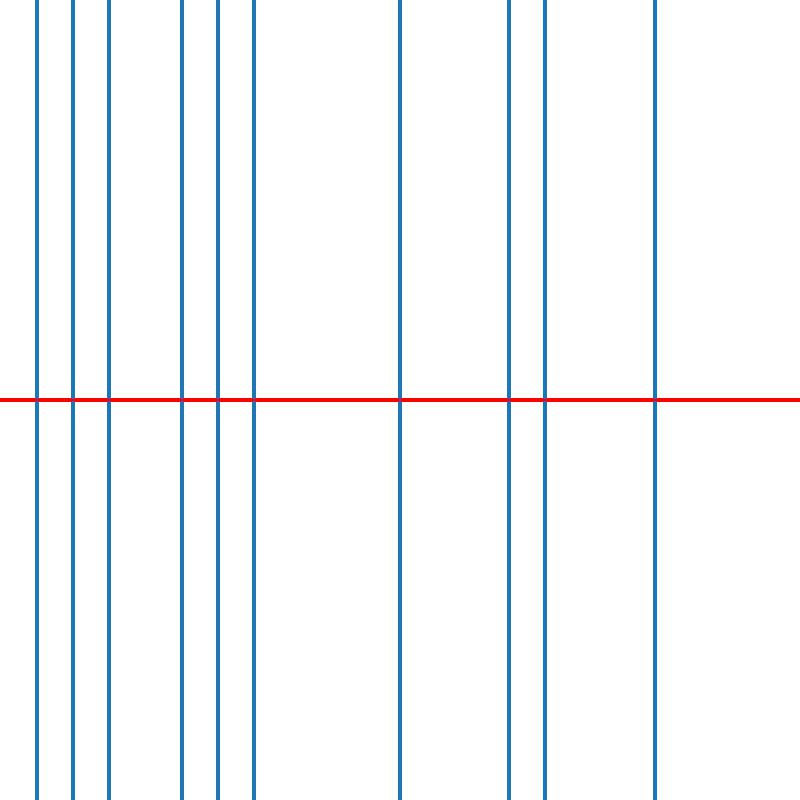root: (250, 396, 258, 404), (541, 396, 549, 404), (32, 396, 40, 404), (650, 396, 658, 404), (69, 396, 76, 404), (105, 396, 112, 404), (505, 396, 512, 404), (396, 396, 403, 404), (178, 396, 185, 404), (214, 396, 221, 404)
